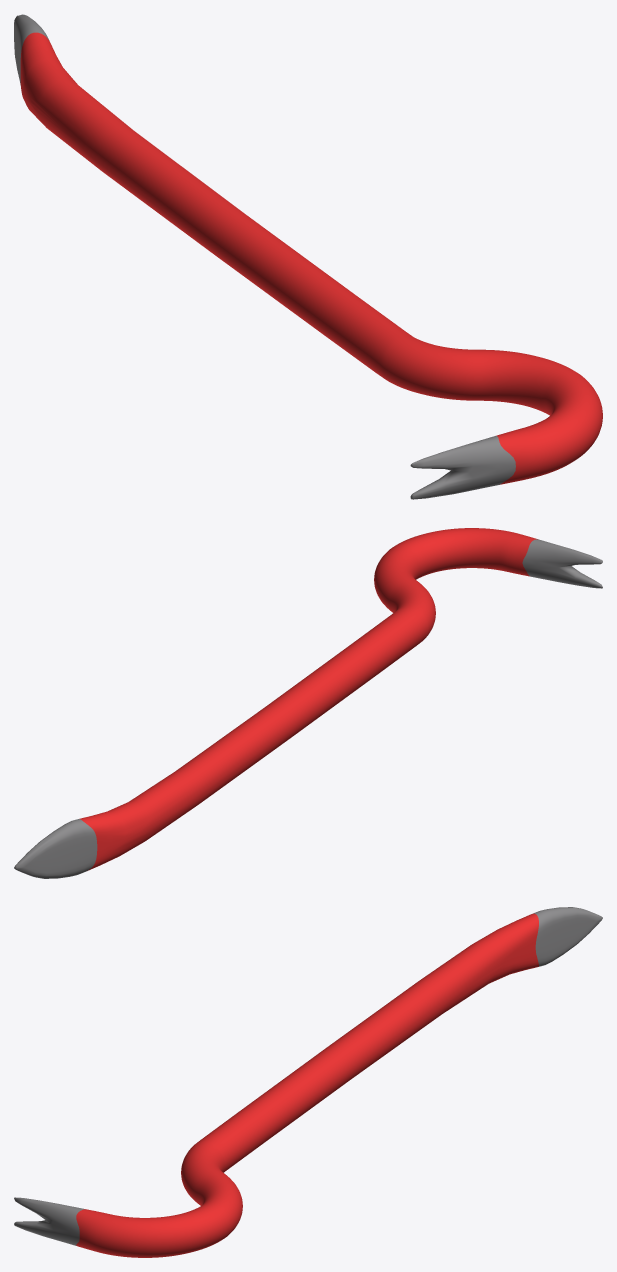
The model's file is obj_crowbar.glb.
3 renders of one model, top to bottom at view 1: azimuth 30°, elevation 25°; view 2: azimuth 150°, elevation 25°; view 3: azimuth 330°, elevation 25°, orthographic. The views are drawn at different scales.
Parts seen in each view (by area): view 1: crowbar_animation; view 2: crowbar_animation; view 3: crowbar_animation.
Part boxes in pixels (x1,y1,x2,y2): crowbar_animation: [14, 14, 602, 499]; crowbar_animation: [14, 528, 602, 878]; crowbar_animation: [14, 907, 602, 1257].
Size of the model in its own units: 0.551 by 0.1578 by 2.46.
